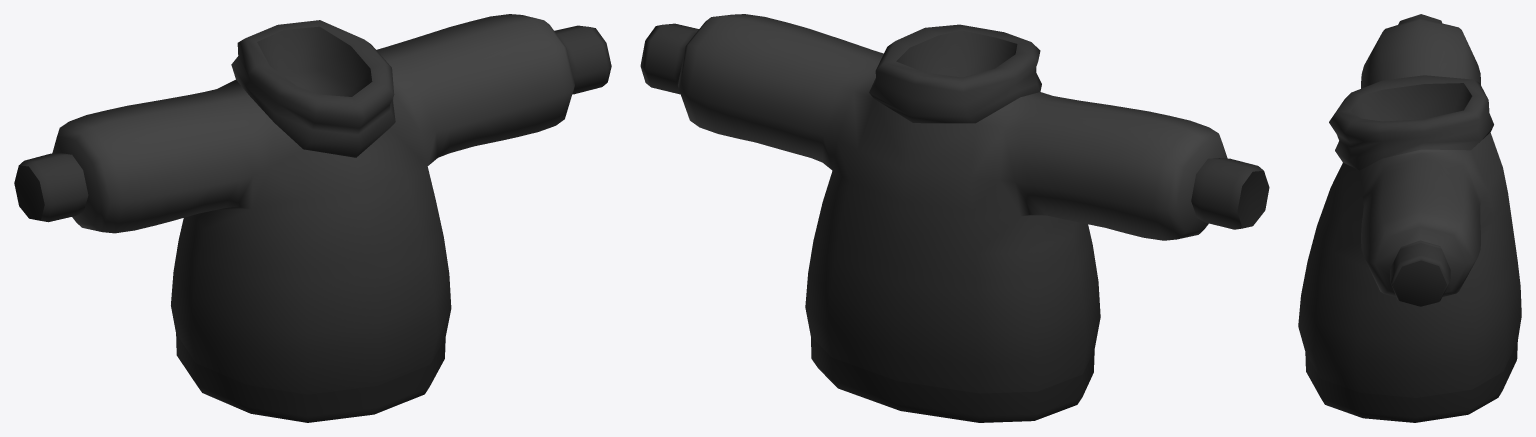
File: Top_20.fbx
3 views of the same model, side by side, from view 1: azimuth 30°, elevation 25°; view 2: azimuth 150°, elevation 25°; view 3: azimuth 270°, elevation 25° (orthographic). The views are drawn at different scales.
Visible parts, largest first — view 1: Top_20; view 2: Top_20; view 3: Top_20.
Part boxes in pixels (x1,y1,x2,y2): Top_20: [14, 14, 611, 422]; Top_20: [640, 14, 1269, 422]; Top_20: [1298, 14, 1521, 422].
Bounding box in the file's own units: 95.16 × 51.13 × 36.49.
